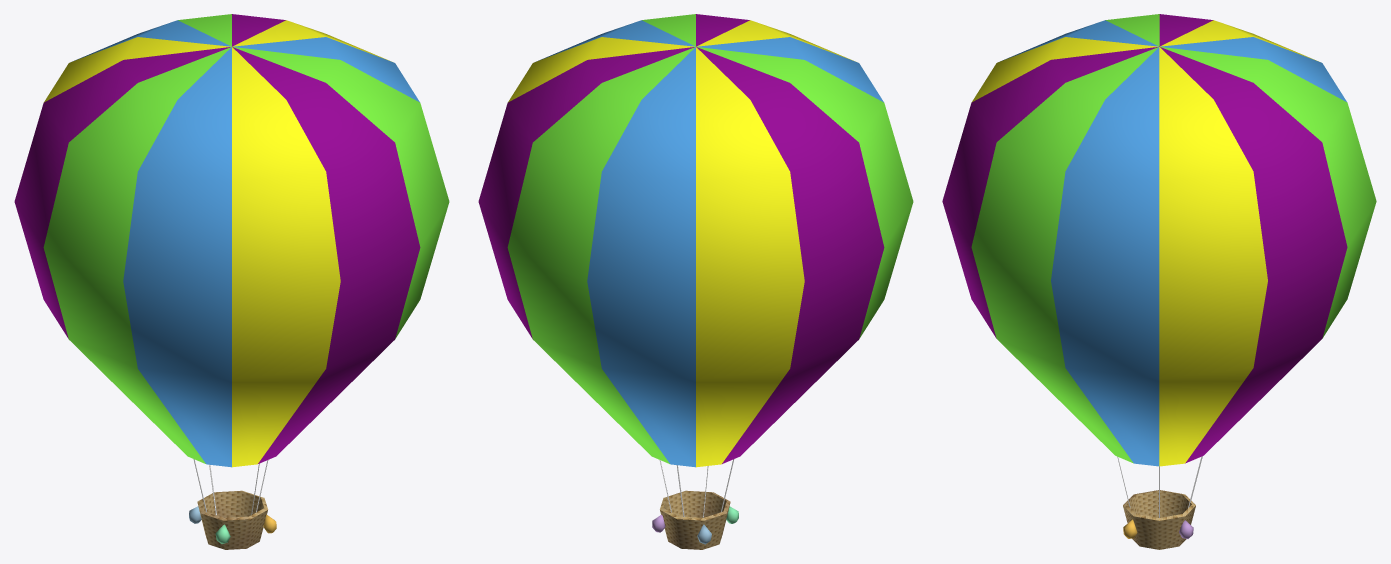
File: globus.FBX
The picture shows the model from 3 angles, left to right: view 1: azimuth 30°, elevation 25°; view 2: azimuth 150°, elevation 25°; view 3: azimuth 270°, elevation 25°; orthographic projection.
Visible parts, largest first — view 1: Sphere001; view 2: Sphere001; view 3: Sphere001.
Part boxes in pixels (x1,y1,x2,y2): Sphere001: [14, 14, 449, 549]; Sphere001: [478, 14, 913, 549]; Sphere001: [942, 14, 1376, 549].
Size of the model in its own units: 115 by 144 by 115.
